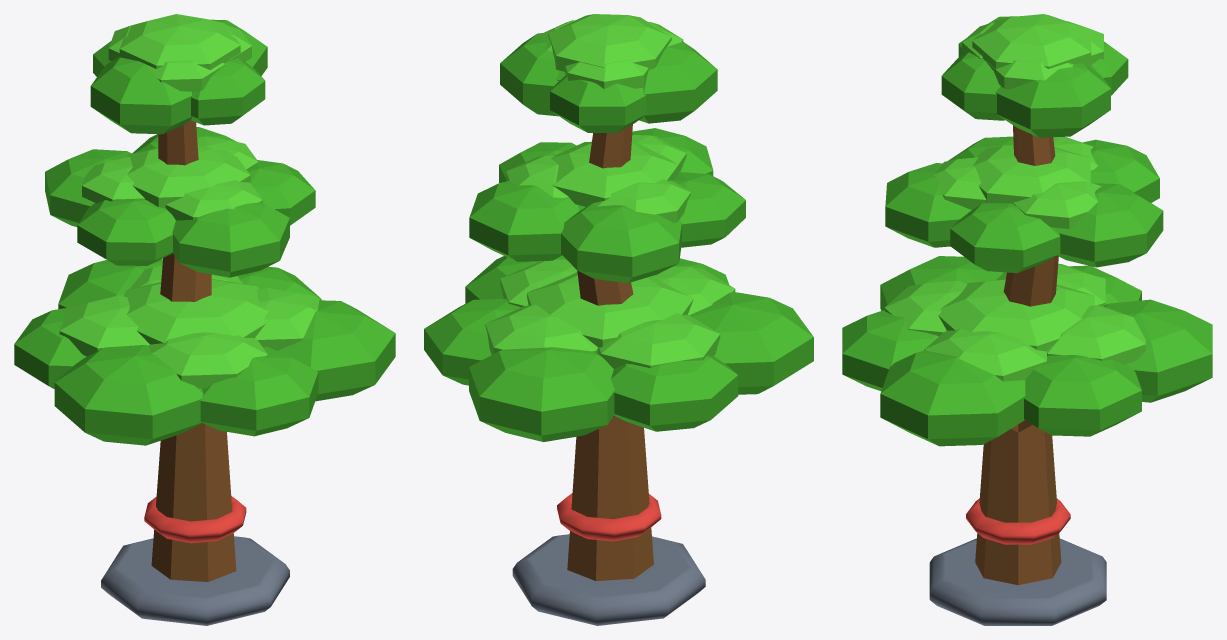
Rendered from Prop_samurai_castle_PineTree.glb.
The picture shows the model from 3 angles, left to right: view 1: azimuth 30°, elevation 25°; view 2: azimuth 150°, elevation 25°; view 3: azimuth 270°, elevation 25°; orthographic projection. The views are drawn at different scales.
Visible parts, largest first — view 1: LeafDark_46B82C, LeafLight_5BD43A, Bark_8A5A2B, StoneDark_6B7686, ZoneRed_E0453C; view 2: LeafDark_46B82C, LeafLight_5BD43A, Bark_8A5A2B, StoneDark_6B7686, ZoneRed_E0453C; view 3: LeafDark_46B82C, LeafLight_5BD43A, Bark_8A5A2B, StoneDark_6B7686, ZoneRed_E0453C.
Boxes of the visible parts, <box> form: LeafDark_46B82C: <box>14,19,395,445</box>; LeafLight_5BD43A: <box>59,14,319,388</box>; Bark_8A5A2B: <box>151,120,236,581</box>; StoneDark_6B7686: <box>101,536,289,625</box>; ZoneRed_E0453C: <box>144,496,246,543</box>; LeafDark_46B82C: <box>424,33,813,441</box>; LeafLight_5BD43A: <box>485,14,735,368</box>; Bark_8A5A2B: <box>567,124,653,580</box>; StoneDark_6B7686: <box>512,534,705,625</box>; ZoneRed_E0453C: <box>557,493,661,541</box>; LeafDark_46B82C: <box>842,16,1212,446</box>; LeafLight_5BD43A: <box>884,14,1145,381</box>; Bark_8A5A2B: <box>975,125,1061,585</box>; StoneDark_6B7686: <box>929,538,1106,625</box>; ZoneRed_E0453C: <box>966,498,1070,544</box>.
Size of the model in its own units: 9.79 by 16.83 by 10.04.
